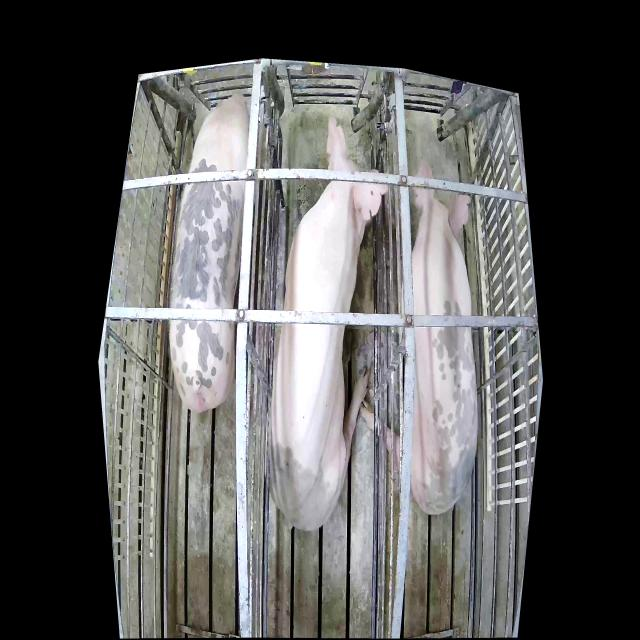pig: (269, 114, 390, 529), (363, 159, 477, 513), (169, 94, 250, 412)
